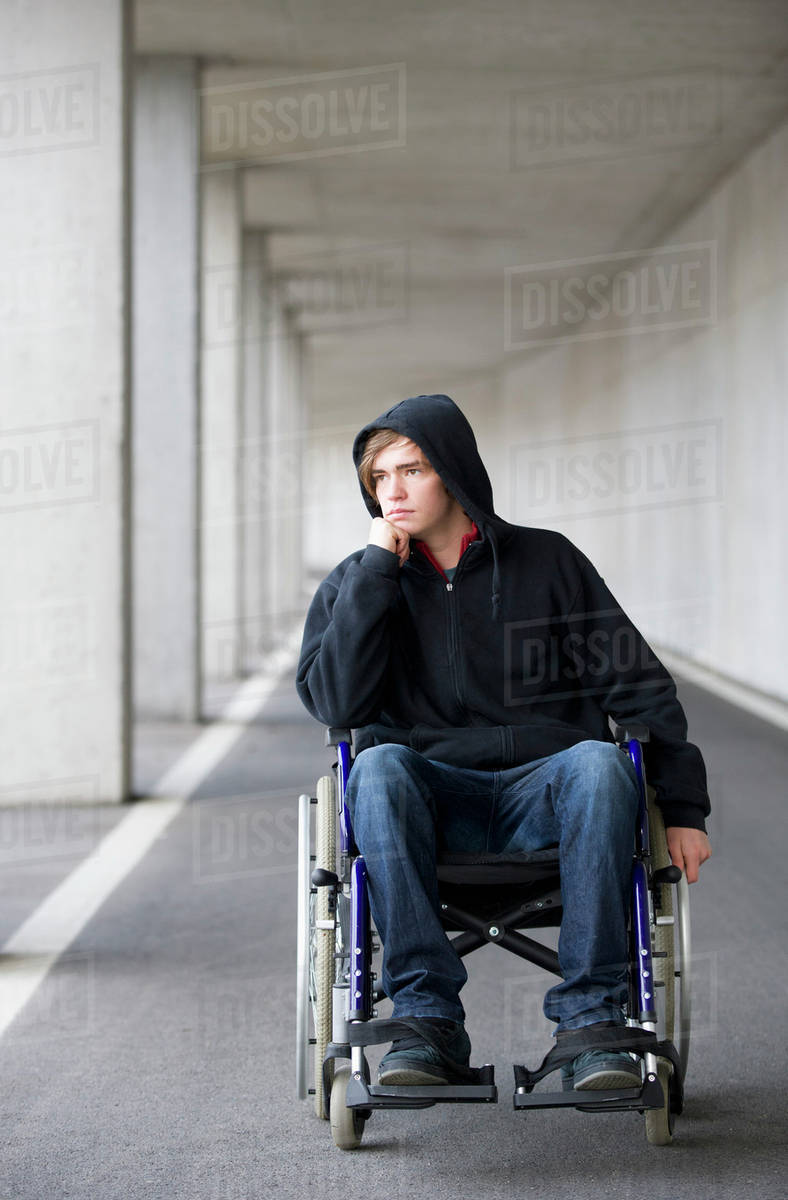person: (292, 384, 671, 757)
wheelchair: (288, 755, 703, 1146)
